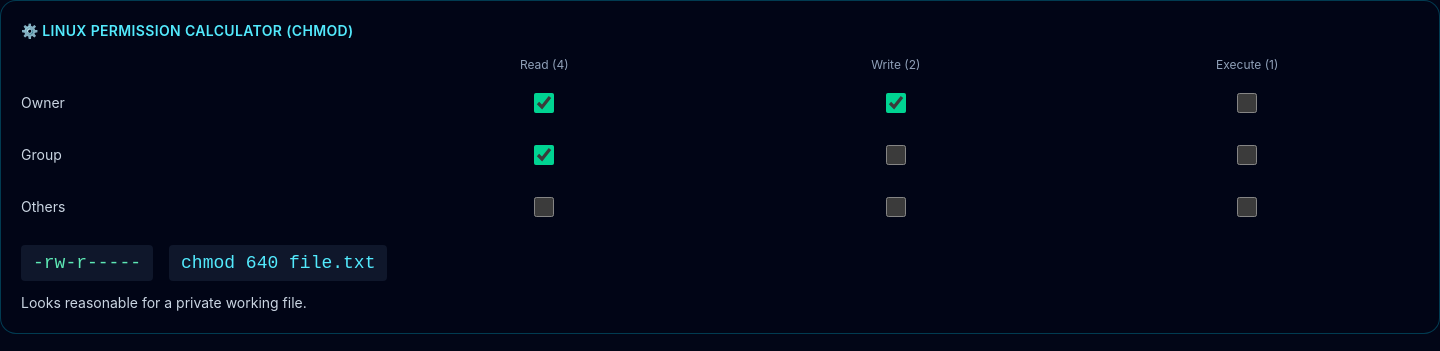
Scenario: PermTool › does not claim everyone can read chmod 604
Note: Start at 640 (owner rw-, group r--, others ---).
Click the checkbox named "Group – Read (4)".
click(544, 155)  # box [534, 145, 554, 165]
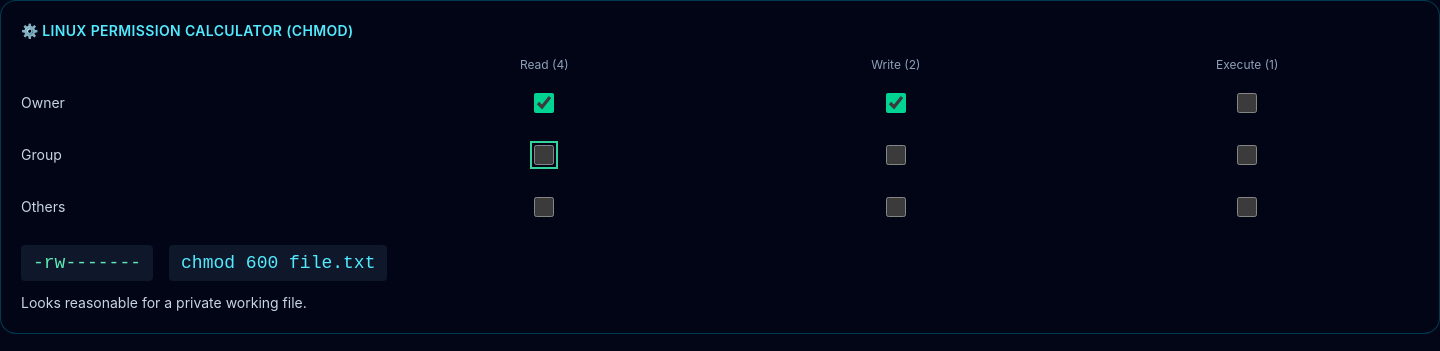
Click the checkbox named "Others – Read (4)".
click(544, 207)  # box [534, 197, 554, 217]
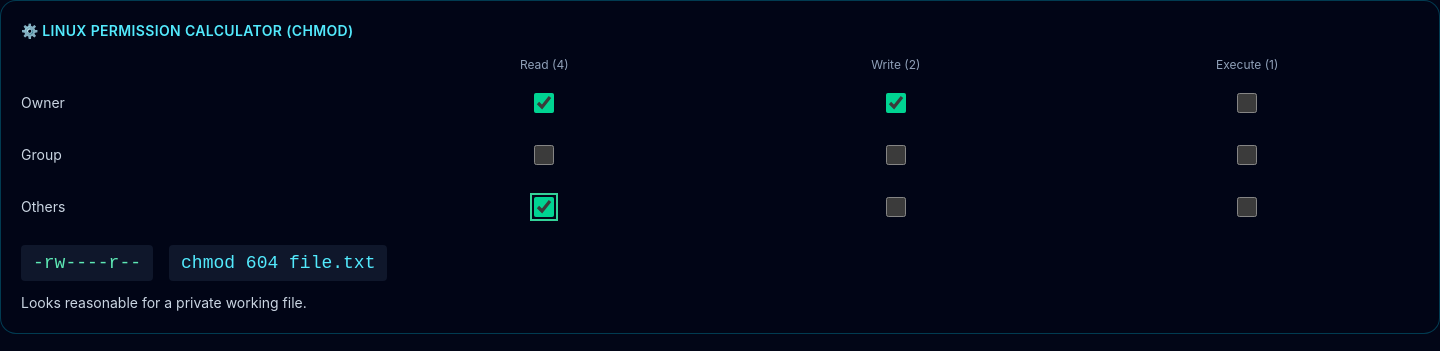
Expected: the text "Looks reasonable for a private working file." is shown, [21, 294, 307, 311]
Expected: the text "chmod 604 file.txt" is shown, [169, 245, 387, 281]
